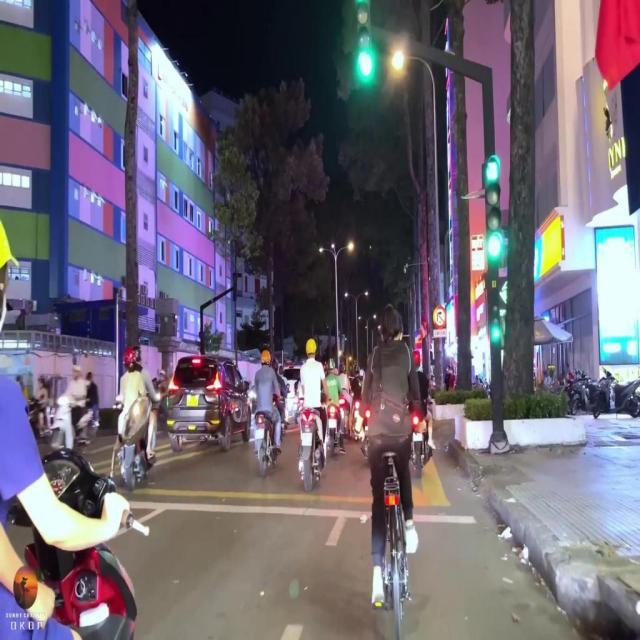cam_re_phai: (433, 305, 447, 329)
khac: (433, 329, 447, 337)
